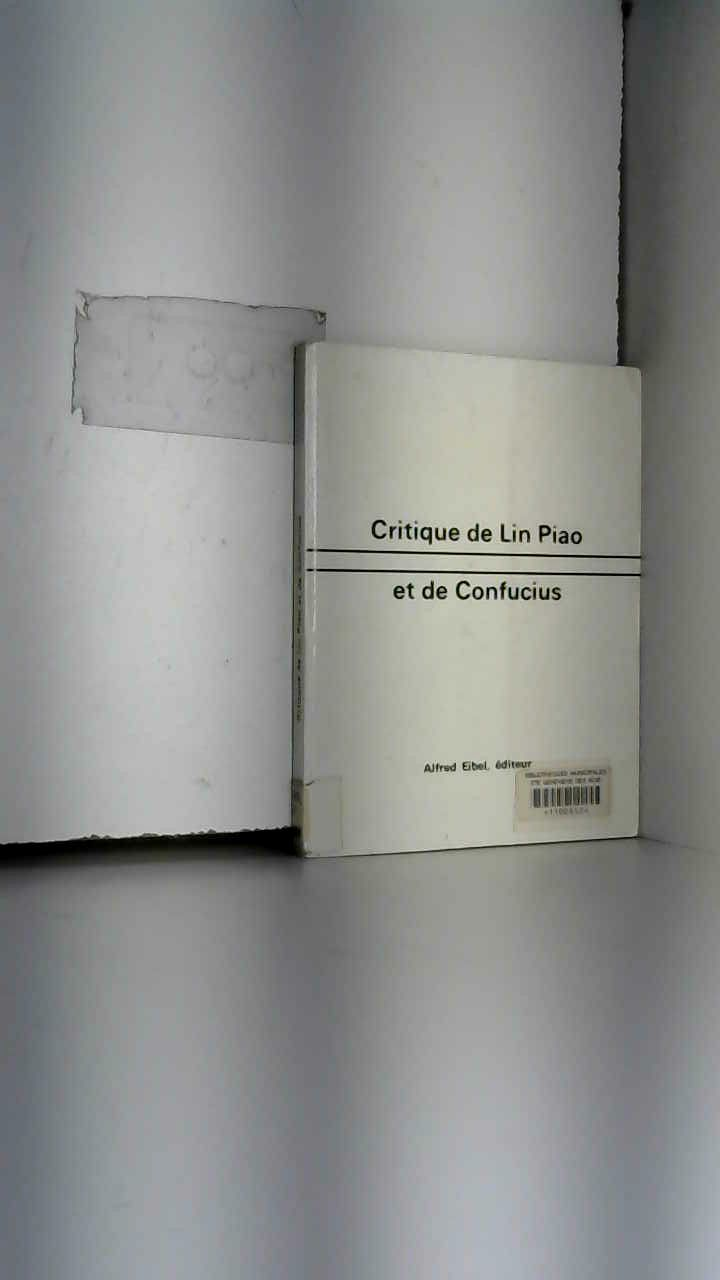book: (255, 303, 678, 908)
